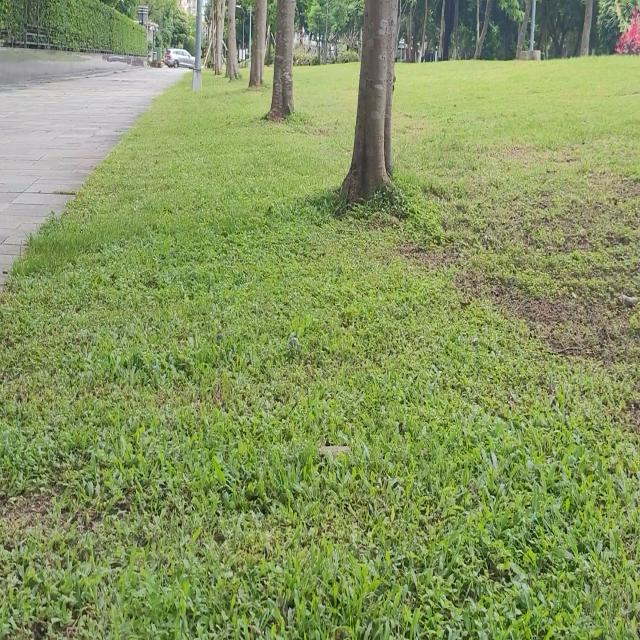grass: (0, 60, 640, 639)
